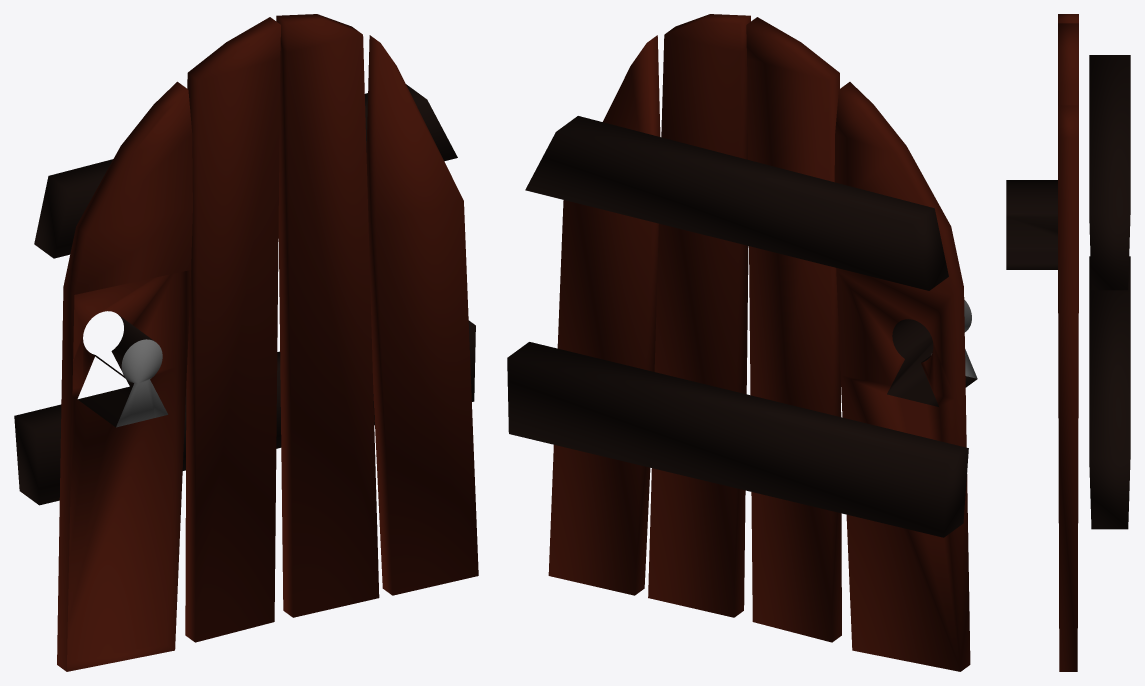
File: door.obj
3 views of the same model, side by side, from view 1: azimuth 30°, elevation 25°; view 2: azimuth 150°, elevation 25°; view 3: azimuth 270°, elevation 25° (orthographic). The views are drawn at different scales.
Visible parts, largest first — view 1: Door_Cylinder.001; view 2: Door_Cylinder.001; view 3: Door_Cylinder.001.
Boxes of the visible parts, x1,y1,x2,y2 form: Door_Cylinder.001: (14,14,478,671); Door_Cylinder.001: (507,14,977,671); Door_Cylinder.001: (1006,14,1130,671).
Size of the model in its own units: 2.3 by 3 by 0.6.
